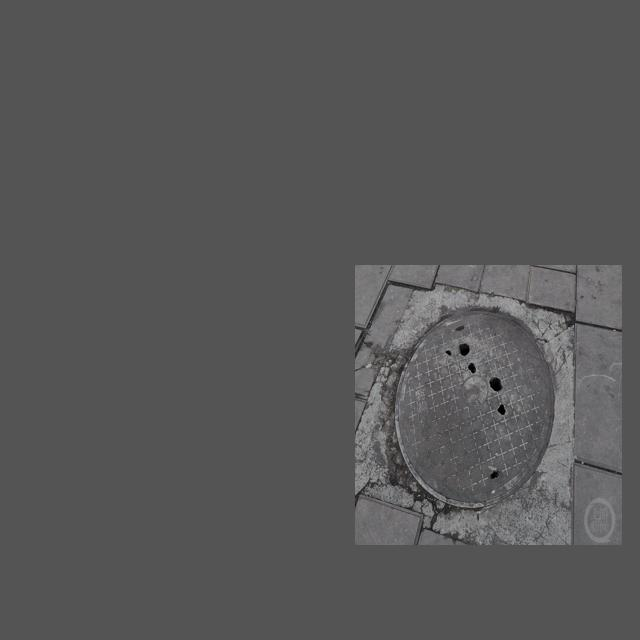circle: (361, 281, 581, 538)
